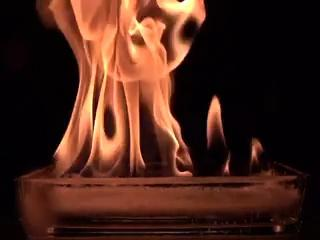Fire: (39, 1, 272, 175)
